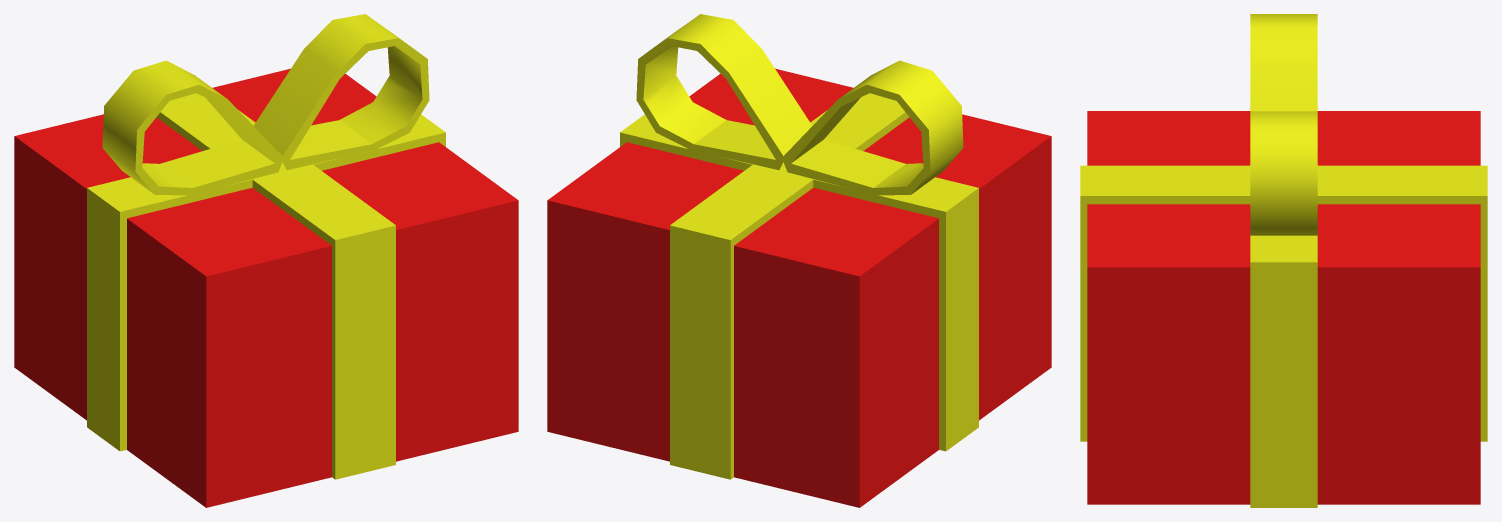
File: Hop qua.FBX
The picture shows the model from 3 angles, left to right: view 1: azimuth 30°, elevation 25°; view 2: azimuth 150°, elevation 25°; view 3: azimuth 270°, elevation 25°; orthographic projection. The views are drawn at different scales.
Parts seen in each view (by area): view 1: Object394; view 2: Object394; view 3: Object394.
Part boxes in pixels (bbox=[...]): Object394: bbox=[14, 14, 518, 507]; Object394: bbox=[547, 14, 1051, 507]; Object394: bbox=[1080, 14, 1487, 507].
Size of the model in its own units: 0.759 by 0.7733 by 0.8005.
